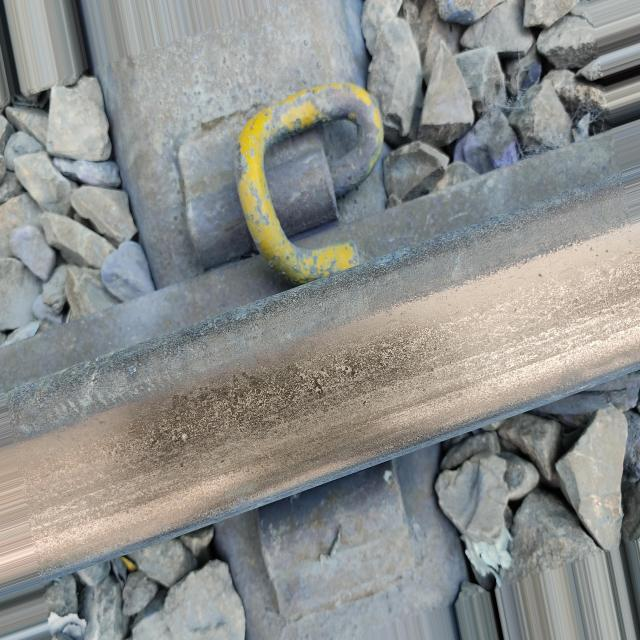Good Fasteners: (155, 74, 392, 310)
Missing Fastener: (228, 469, 452, 640)
